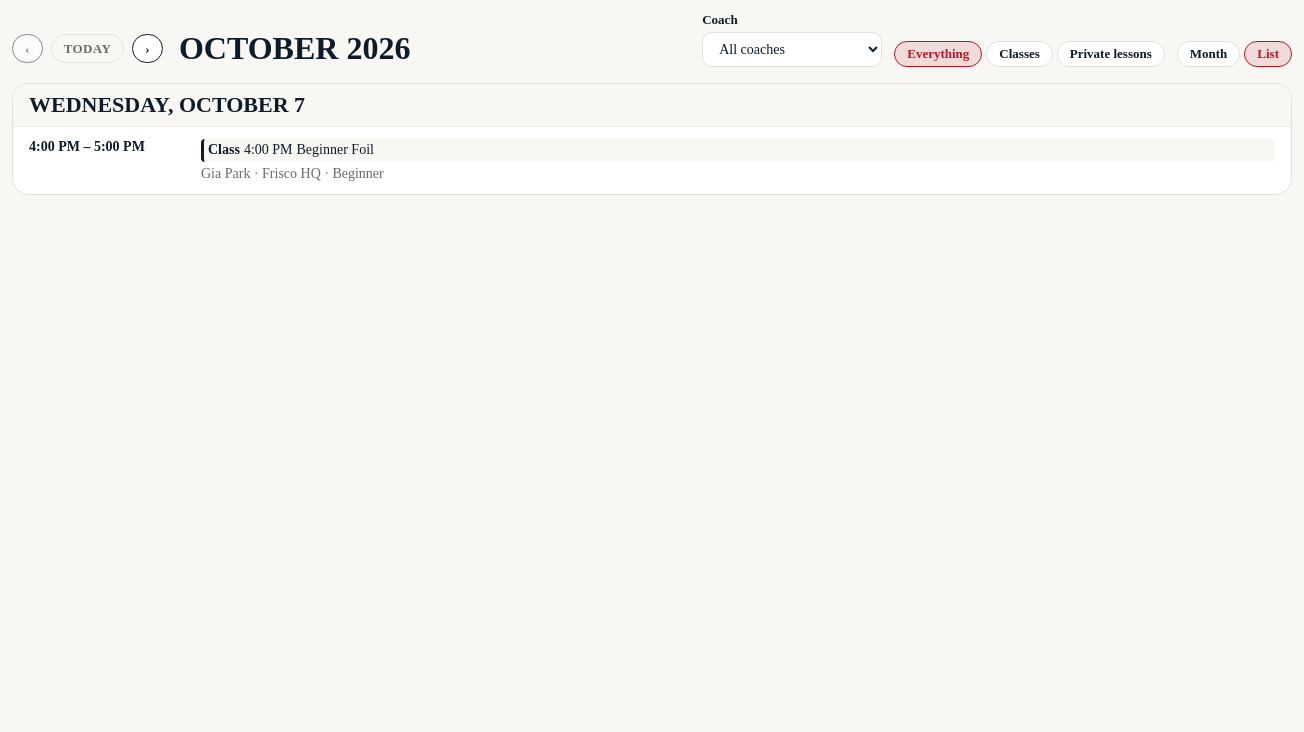
Test case: CalendarView › lists only the shown month in the list, though the grid request spans neighboring days
Expected: the heading "Wednesday, October 7" is shown, [13, 84, 1291, 127]
Expected: the heading "Tuesday, November 3" is not shown
Click the radio button labelled "Month" at (1209, 54), box [1177, 41, 1240, 67]
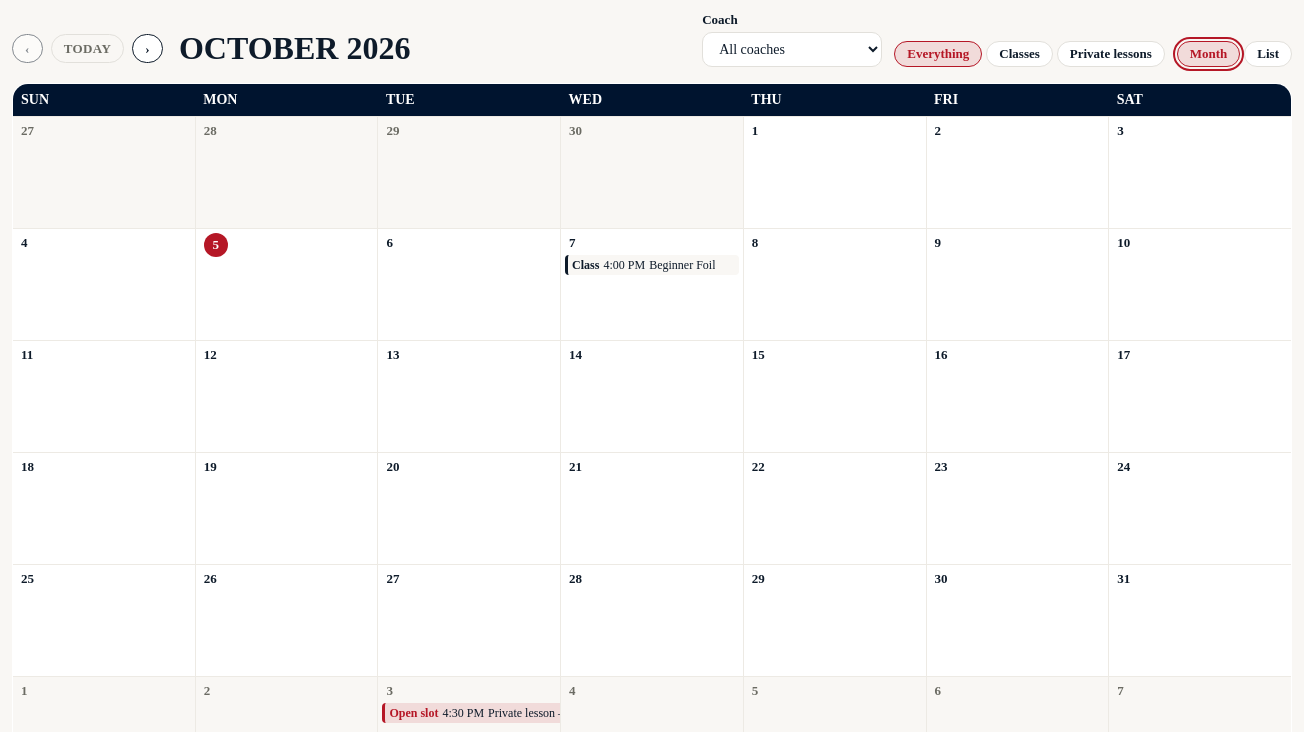
Now the link "Open slot 4:30 PM Private lesson — 30 min" is shown, box [382, 703, 561, 723]
